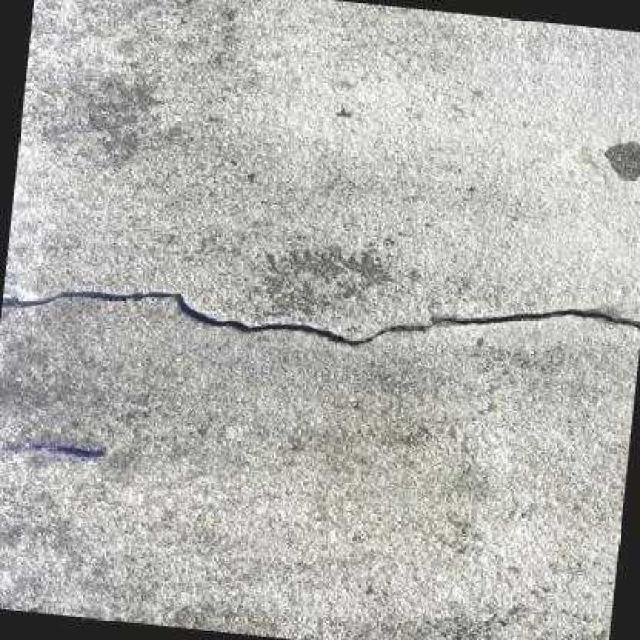D00: (0, 291, 640, 345)
